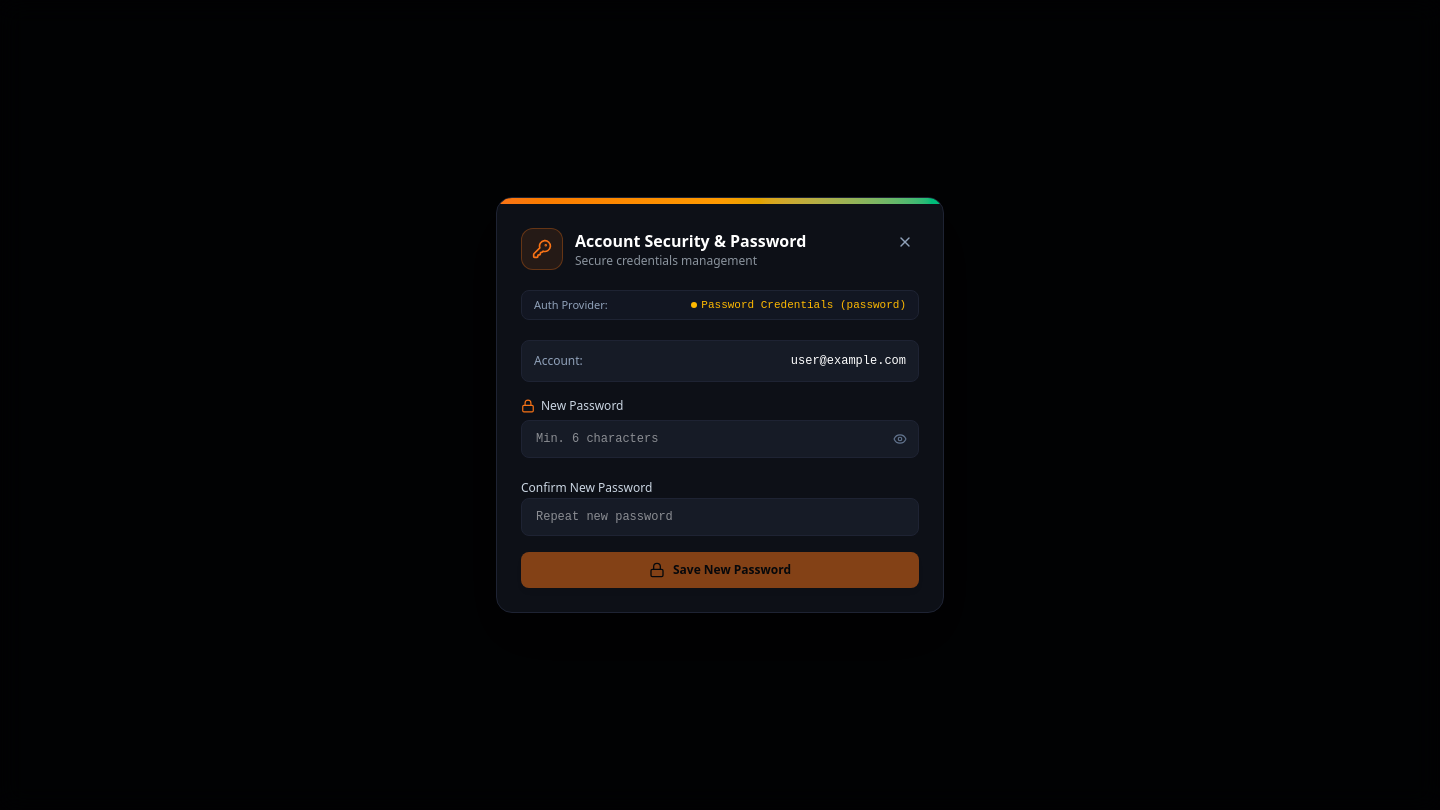
Test case: AuthActionModal Component Tests › Password Reset Flow (mode=resetPassword) › should submit password reset successfully when valid passwords match
Type "SecurePass123!" into the password field with placeholder "Min. 6 characters" at point(720, 439), box [521, 420, 919, 458]
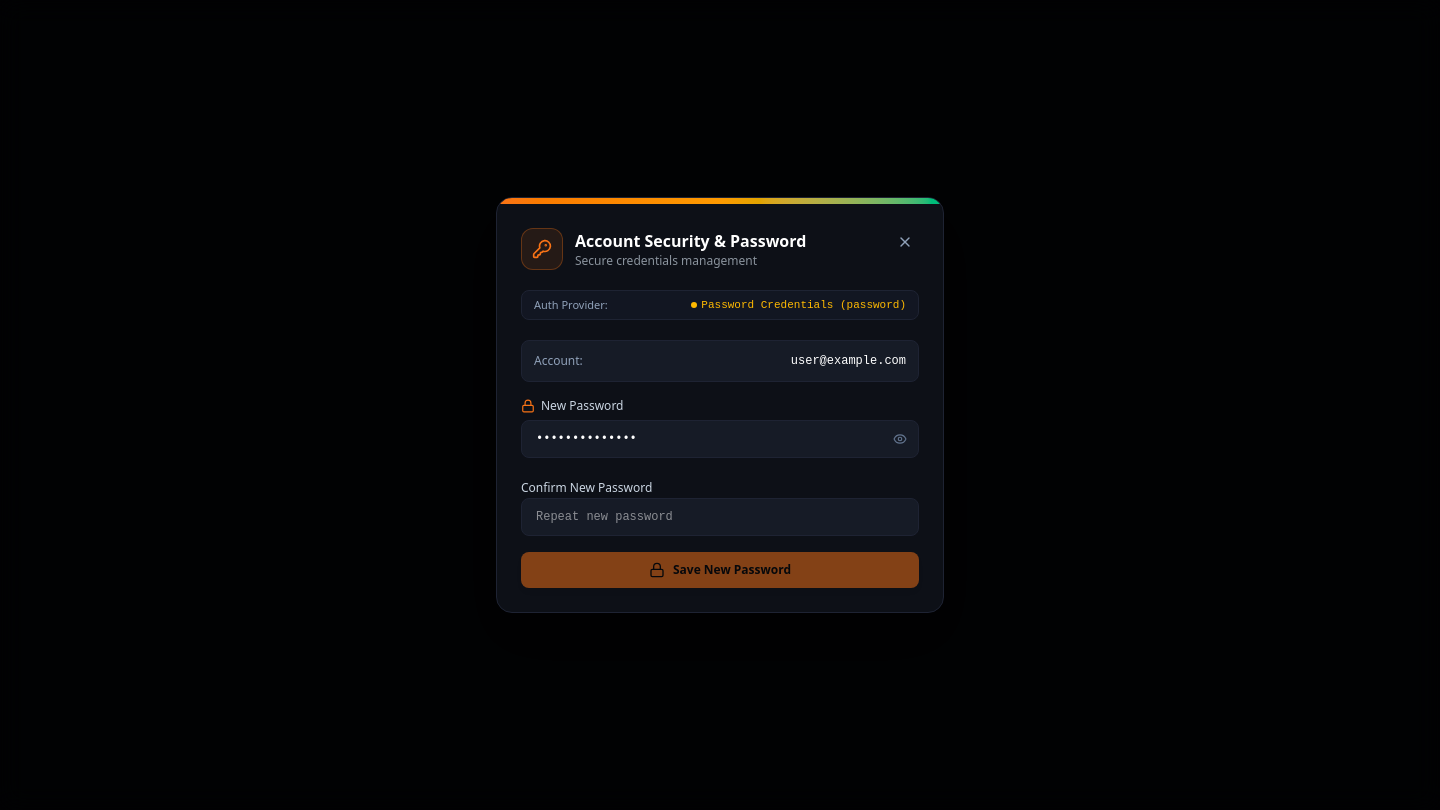
Type "SecurePass123!" into the password field with placeholder "Repeat new password" at point(720, 517), box [521, 498, 919, 536]
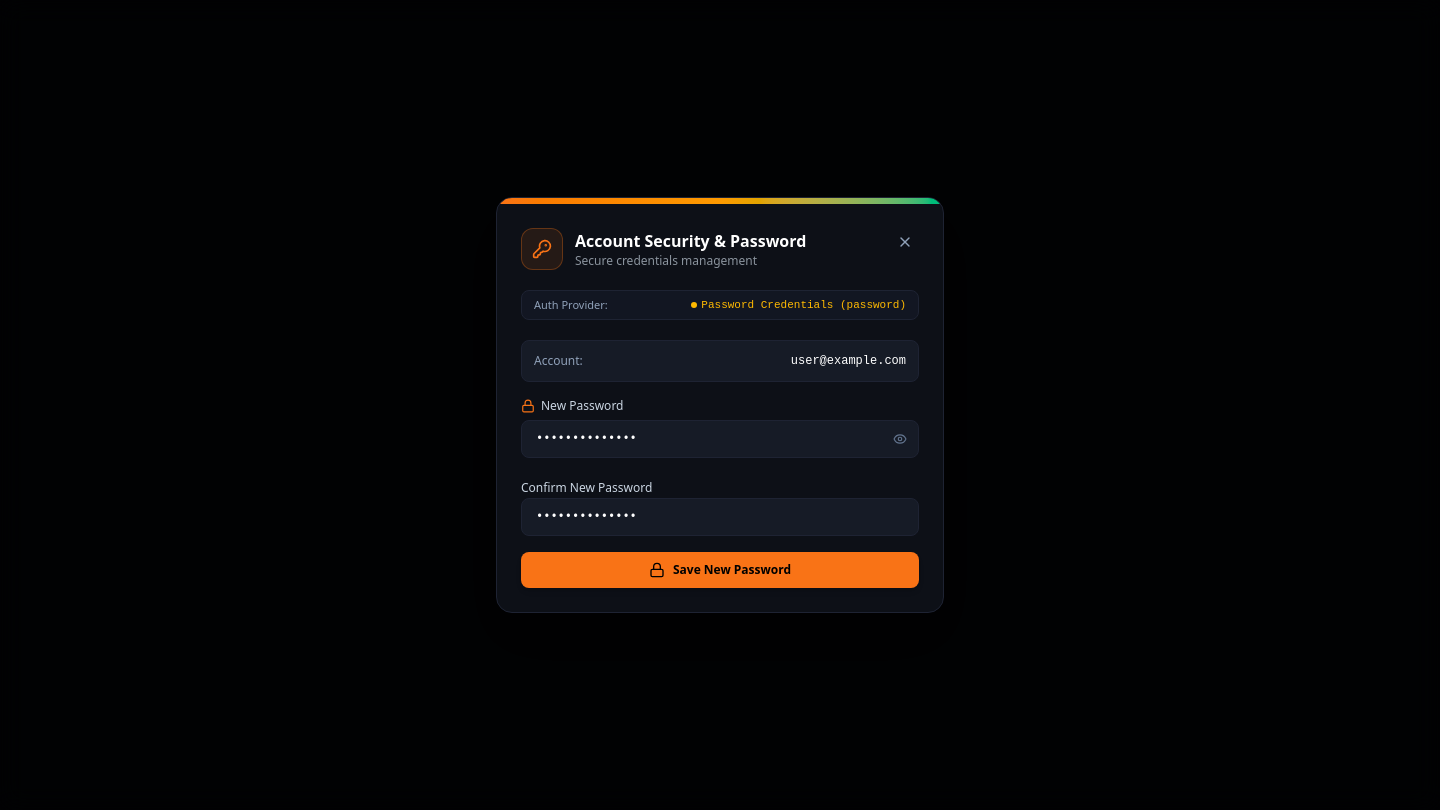
Click the button "Save New Password" at point(720, 570), box [521, 552, 919, 588]
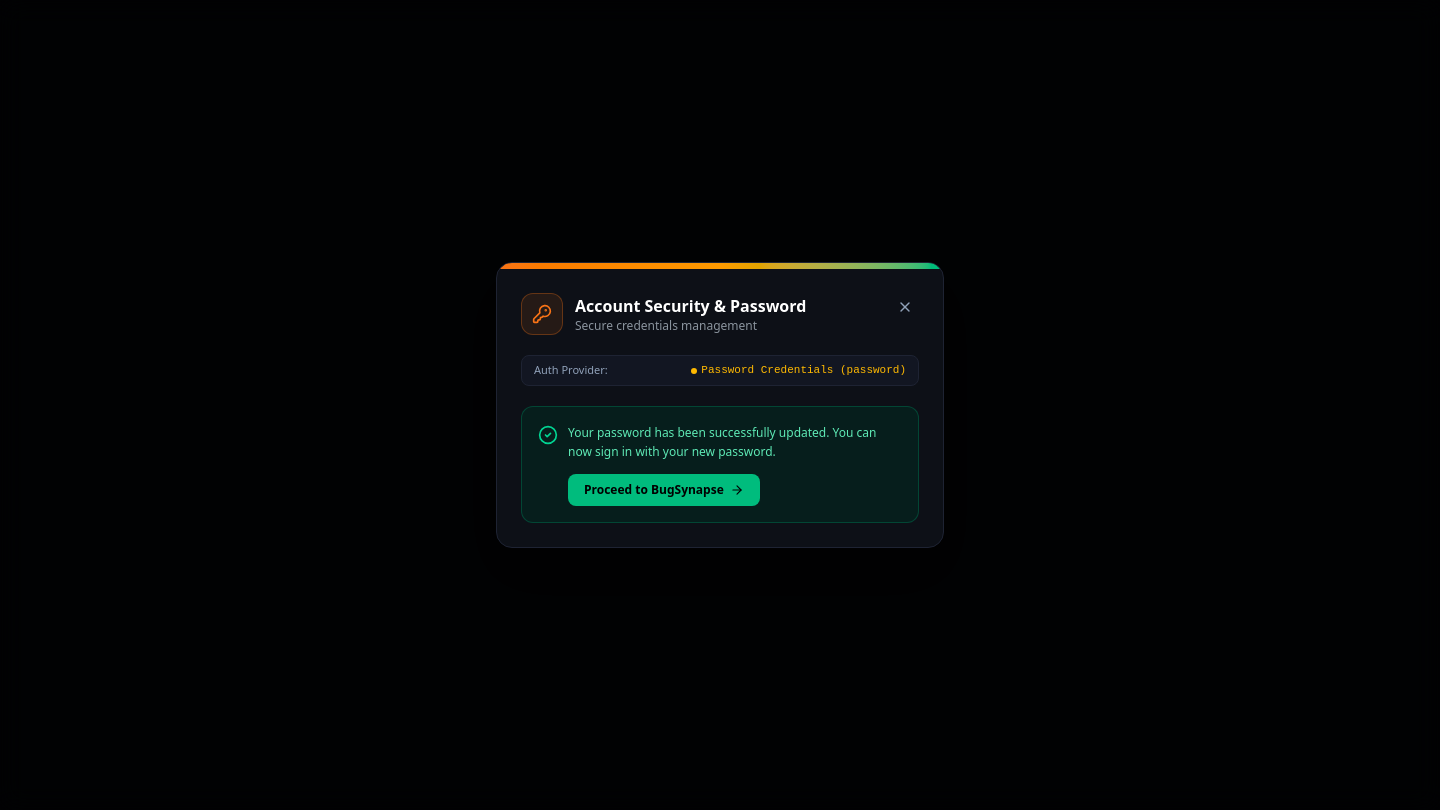
Expected: the text "Your password has been successfully updated" is shown, [568, 424, 876, 460]
